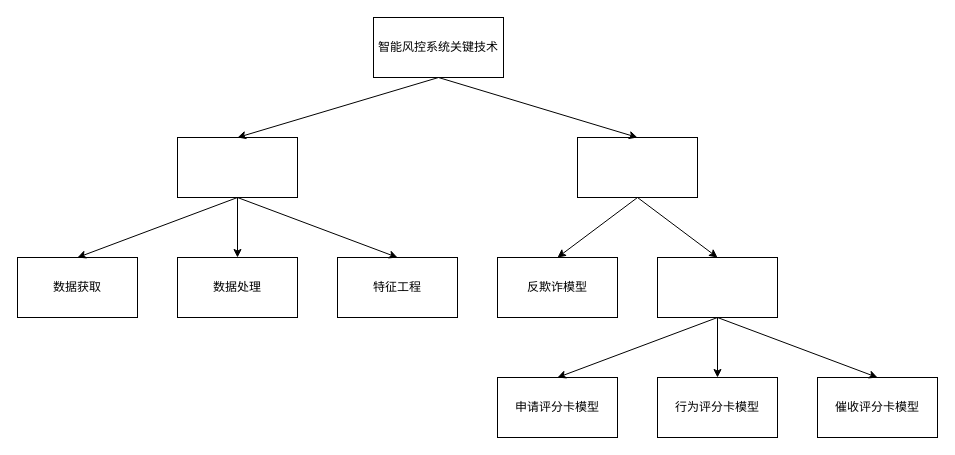
The diagram is 955 pixels wide and 455 high, and some of its shapes have lost their labels. Here are the shapes that lost their labels. From the top down, the centre of each, then its label:
At (237,167): "数据工程".
At (637,167): "模型构建".
At (717,287): "评分卡模型".
